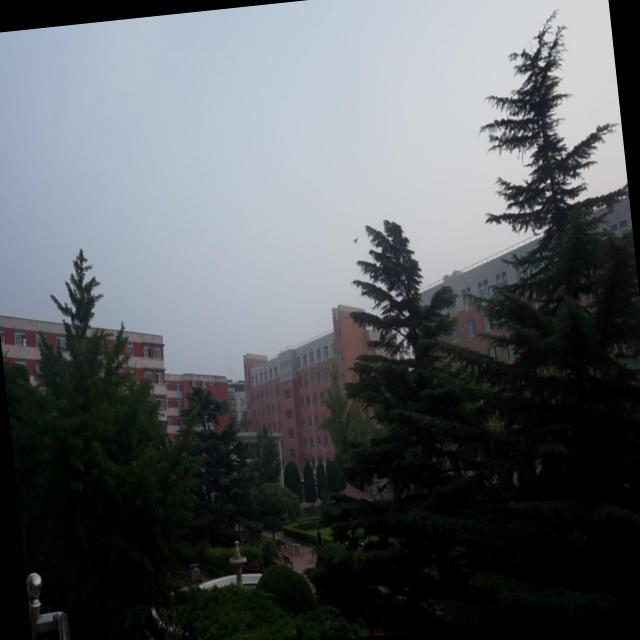drone: (350, 231, 362, 248)
